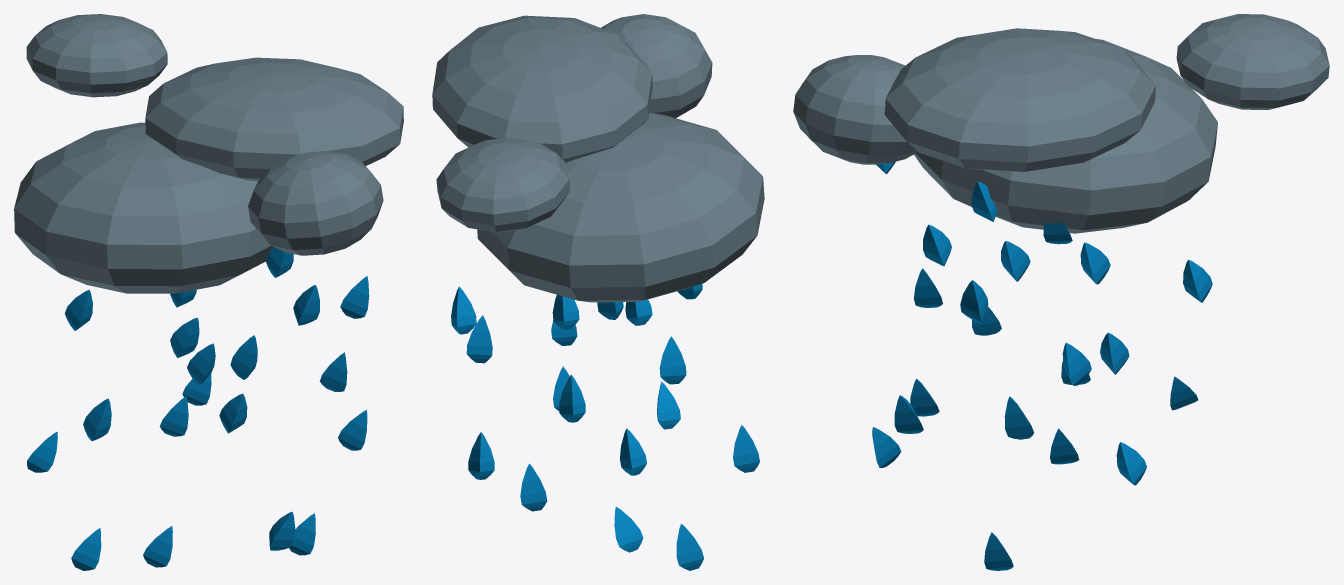
File: rain.gltf
3 renders of one model, left to right at view 1: azimuth 30°, elevation 25°; view 2: azimuth 150°, elevation 25°; view 3: azimuth 270°, elevation 25°, orthographic. The views are drawn at different scales.
Parts seen in each view (by area): view 1: node_MeshObject1538086912-PolyPaper21; view 2: node_MeshObject1538086912-PolyPaper21; view 3: node_MeshObject1538086912-PolyPaper21.
Boxes of the visible parts, x1,y1,x2,y2 form: node_MeshObject1538086912-PolyPaper21: (14, 14, 403, 570); node_MeshObject1538086912-PolyPaper21: (432, 14, 764, 570); node_MeshObject1538086912-PolyPaper21: (793, 14, 1329, 570).
Bounding box in the file's own units: 0.7488 × 1.05 × 1.
